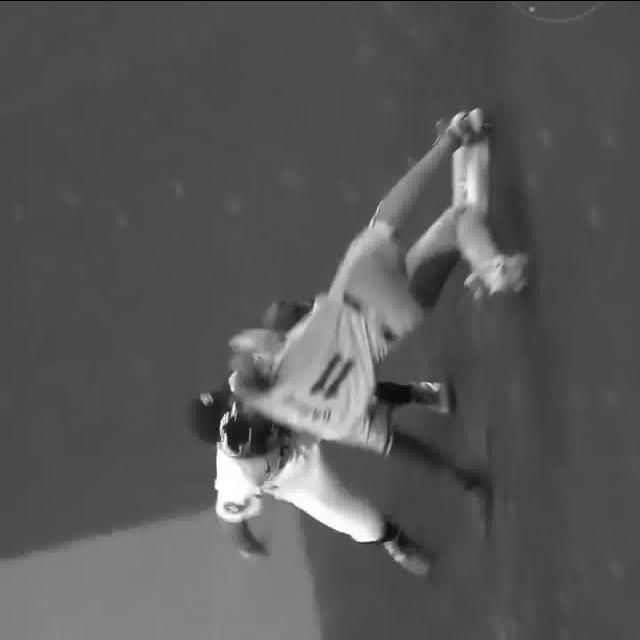base: (452, 139, 488, 215)
baseball_glove: (266, 296, 314, 331)
shoe: (461, 256, 538, 298), (387, 518, 432, 572), (411, 378, 453, 416), (451, 108, 486, 140)
